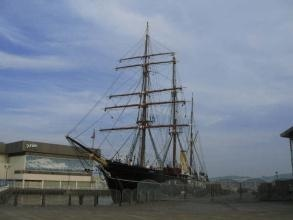fanchuan: (65, 24, 209, 200)
